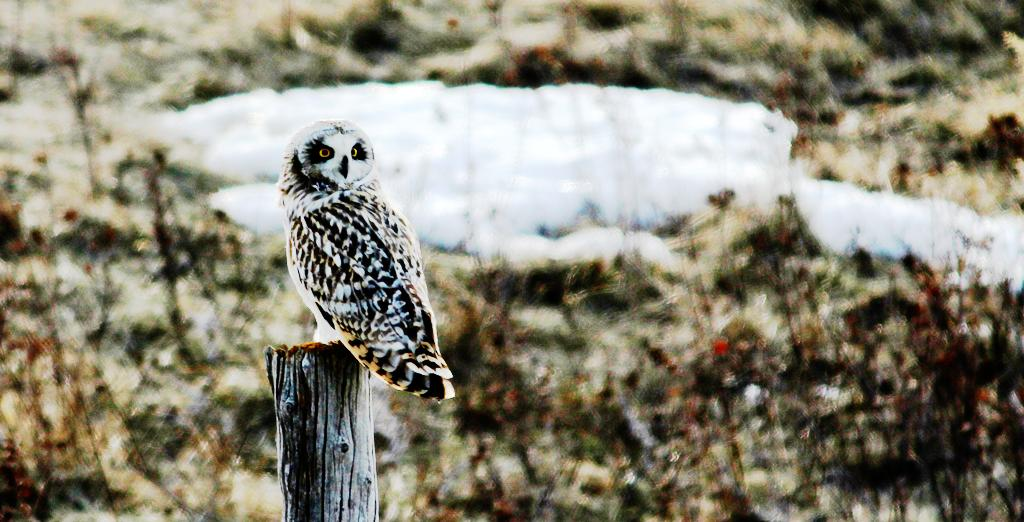Owl: (272, 114, 456, 407)
